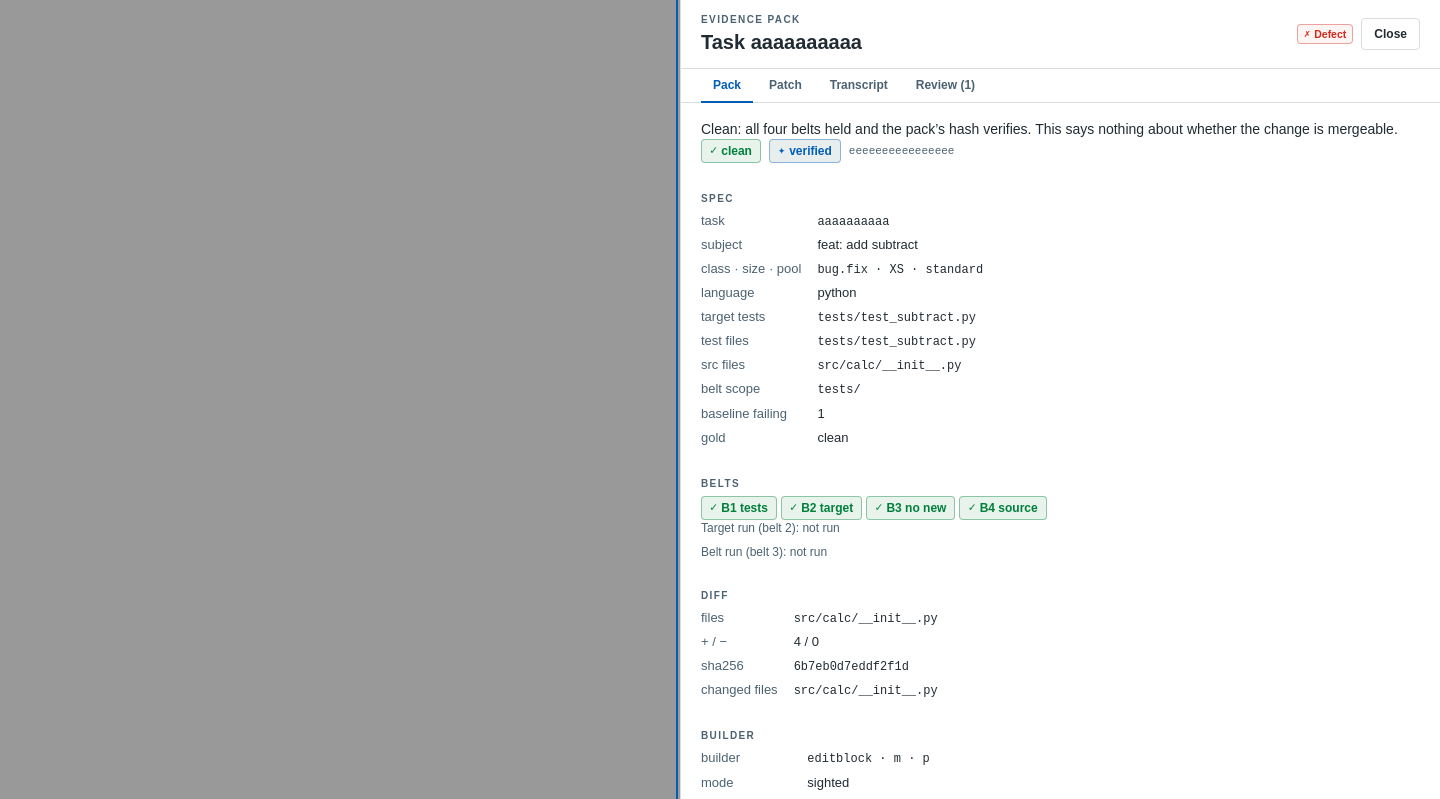
Test: EvidenceDrawer: Patch tab › resolves the row from the task when the opener only knows the pack
Expected: the tab "Review (1)" is shown, [904, 68, 987, 102]
Click the tab "Patch": [785, 86] box [757, 68, 814, 102]
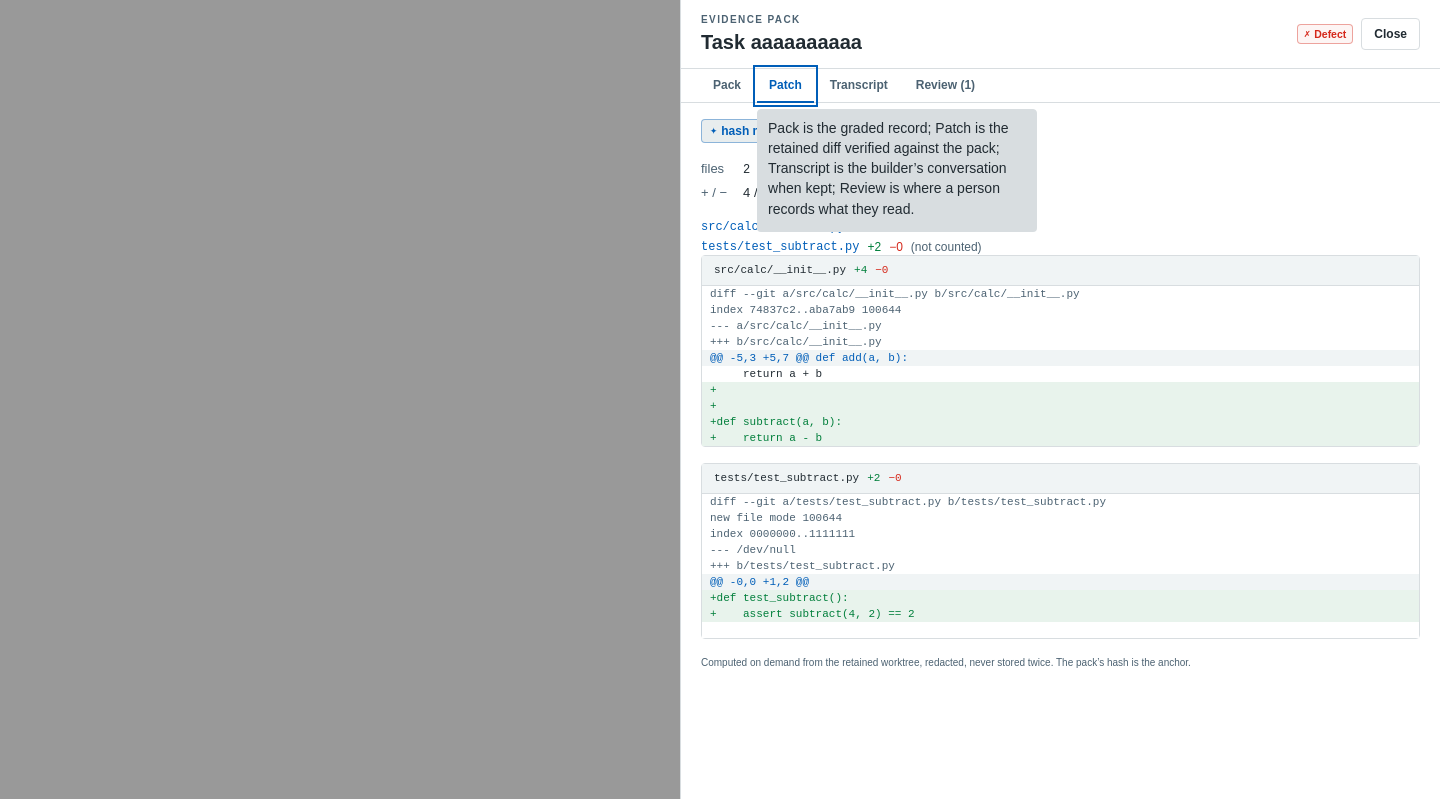
Expected: the picture with test id "patch-verified" is shown, [701, 118, 841, 142]
